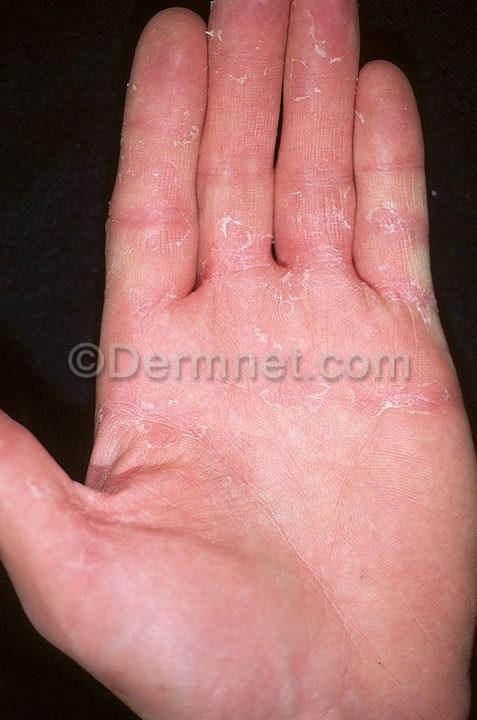Eczema: (271, 396, 460, 594), (34, 556, 263, 704), (79, 399, 285, 560), (258, 601, 465, 719), (112, 101, 185, 277), (256, 282, 413, 354), (214, 21, 299, 145), (0, 428, 74, 562), (103, 277, 248, 341), (213, 171, 284, 277), (114, 37, 216, 108), (340, 199, 424, 270), (280, 160, 331, 269), (294, 55, 351, 143), (370, 110, 419, 191)
